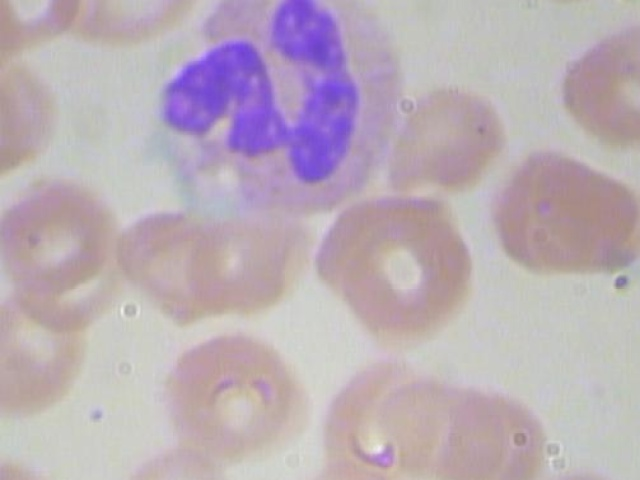RBC: (486, 145, 640, 286), (327, 203, 476, 348), (165, 324, 307, 456), (383, 79, 509, 199), (0, 165, 118, 291), (0, 288, 84, 414), (555, 23, 640, 143), (65, 0, 208, 47), (0, 0, 86, 49), (499, 0, 640, 4)
WBC: (145, 0, 423, 239)
